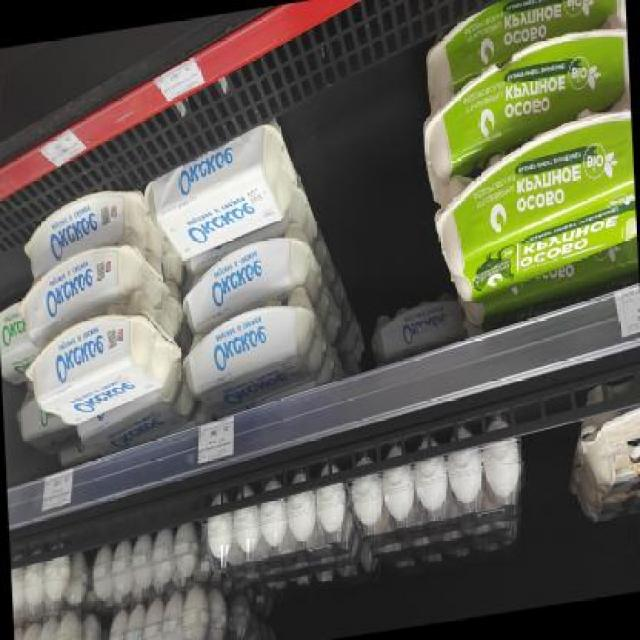Egg: (434, 106, 638, 306), (409, 20, 633, 194), (145, 117, 297, 266), (26, 291, 180, 432), (185, 286, 318, 408), (18, 236, 160, 344), (174, 231, 315, 332), (571, 376, 640, 535), (368, 292, 463, 368), (17, 403, 69, 459), (0, 307, 32, 383)
